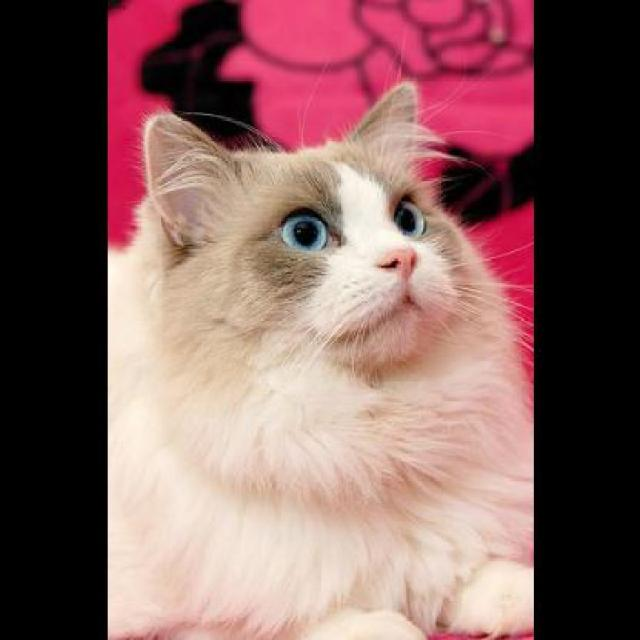unauthorized: (106, 74, 534, 638)
